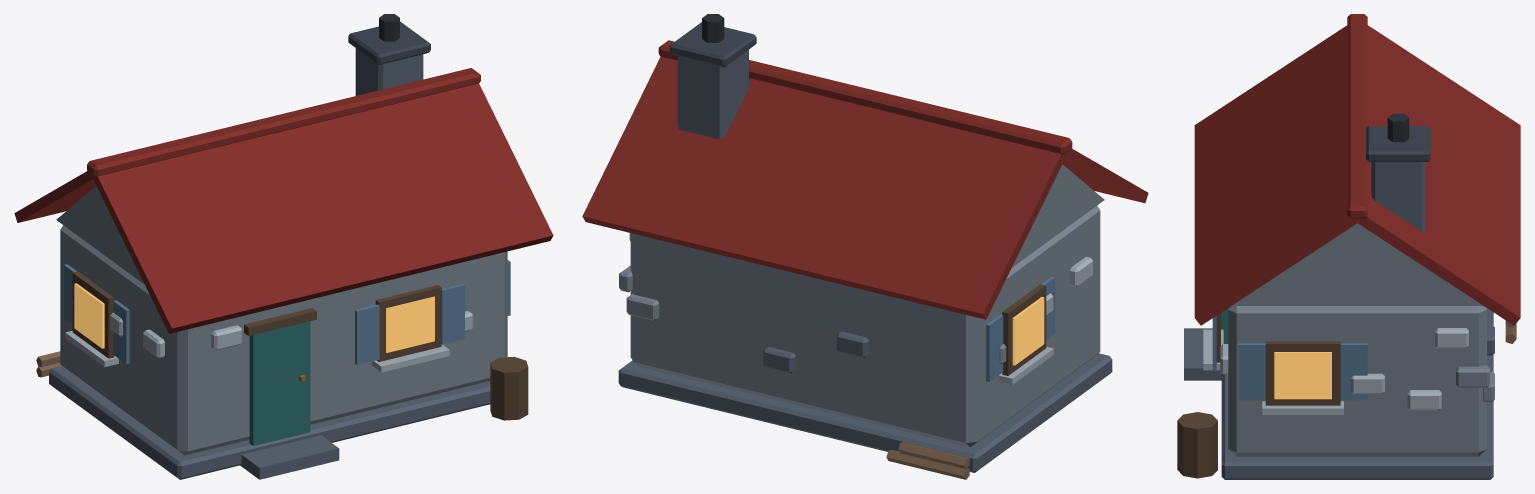
File: cottage.glb
3 views of the same model, side by side, from view 1: azimuth 30°, elevation 25°; view 2: azimuth 150°, elevation 25°; view 3: azimuth 270°, elevation 25° (orthographic). The views are drawn at different scales.
Parts seen in each view (by area): view 1: cottage, window; view 2: cottage, window; view 3: cottage, window.
Part boxes in pixels (x1,y1,x2,y2): cottage: [14, 14, 553, 479]; window: [74, 283, 434, 352]; cottage: [582, 14, 1148, 479]; window: [1012, 297, 1044, 365]; cottage: [1177, 14, 1520, 479]; window: [1274, 352, 1331, 399].
Size of the model in its own units: 6.8 by 5.53 by 5.05.
2 materials, 2 textured.
